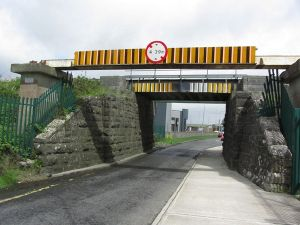bridge: (33, 40, 294, 190)
